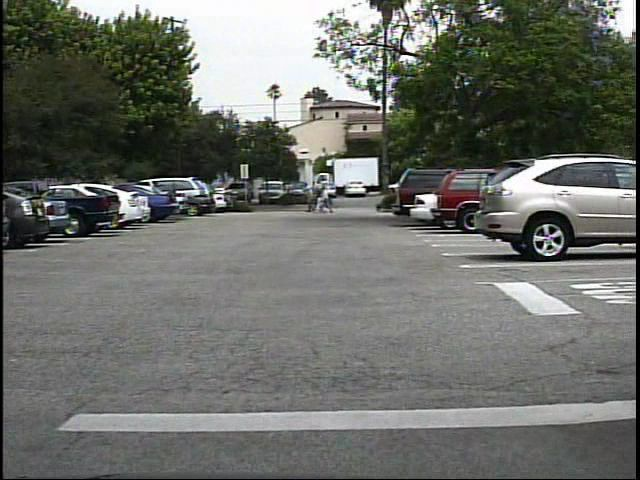person: (319, 185, 336, 215), (302, 185, 317, 215), (316, 186, 329, 216)
